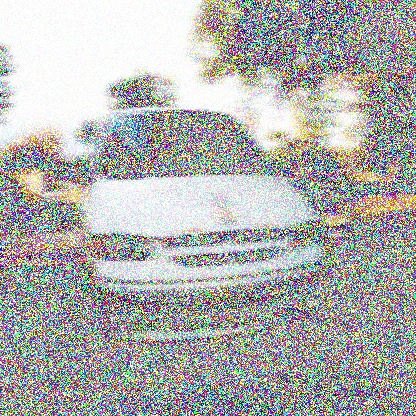Vehicle: (61, 107, 327, 345)
